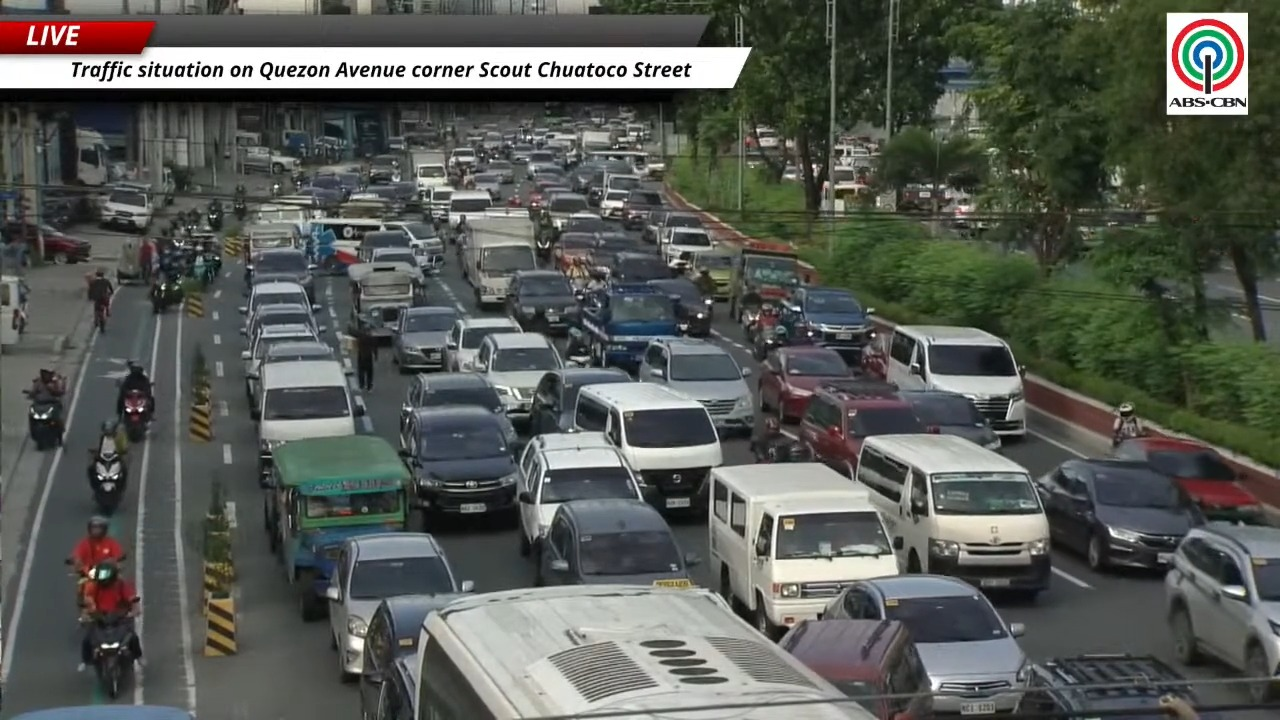bus: (413, 585, 872, 719), (310, 218, 386, 271), (587, 149, 648, 174)
car: (823, 574, 1027, 714), (325, 532, 473, 680), (1165, 523, 1279, 703), (1035, 459, 1203, 570), (517, 432, 644, 555), (779, 619, 931, 719), (535, 499, 699, 587), (1112, 436, 1264, 523), (400, 406, 517, 514), (359, 594, 460, 718), (799, 378, 927, 472), (1019, 653, 1199, 716), (637, 338, 754, 432), (464, 333, 563, 421), (528, 367, 632, 436), (758, 345, 852, 421), (781, 287, 873, 362), (241, 323, 317, 408), (399, 372, 502, 432), (900, 390, 1001, 449), (506, 270, 578, 334), (392, 306, 458, 372), (446, 316, 523, 371), (649, 277, 713, 337), (3, 221, 91, 263), (238, 281, 318, 327), (247, 248, 314, 301), (241, 302, 326, 342), (387, 221, 443, 271), (100, 187, 152, 232), (661, 228, 715, 265), (370, 247, 424, 283), (610, 251, 671, 282), (552, 232, 600, 270), (262, 340, 336, 363), (621, 190, 662, 229), (562, 212, 612, 232), (469, 171, 502, 201), (246, 272, 295, 292), (599, 190, 630, 220), (486, 159, 513, 184)
motorcycle: (87, 613, 134, 699), (88, 449, 126, 515), (25, 391, 62, 450), (120, 389, 149, 442), (751, 325, 787, 361), (64, 558, 89, 609), (743, 310, 779, 345), (151, 280, 181, 314), (202, 252, 221, 285), (535, 233, 553, 262), (206, 206, 223, 231), (94, 302, 107, 332), (233, 198, 246, 221), (270, 181, 282, 197)
truck: (578, 282, 678, 369), (458, 208, 536, 308), (729, 241, 799, 320), (411, 151, 449, 198), (240, 146, 298, 174), (579, 130, 613, 151)
